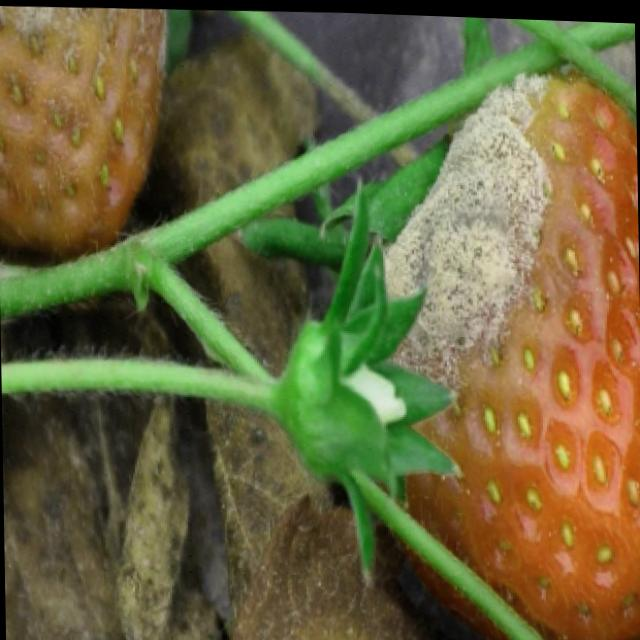Gray Mold: (384, 67, 569, 410)
